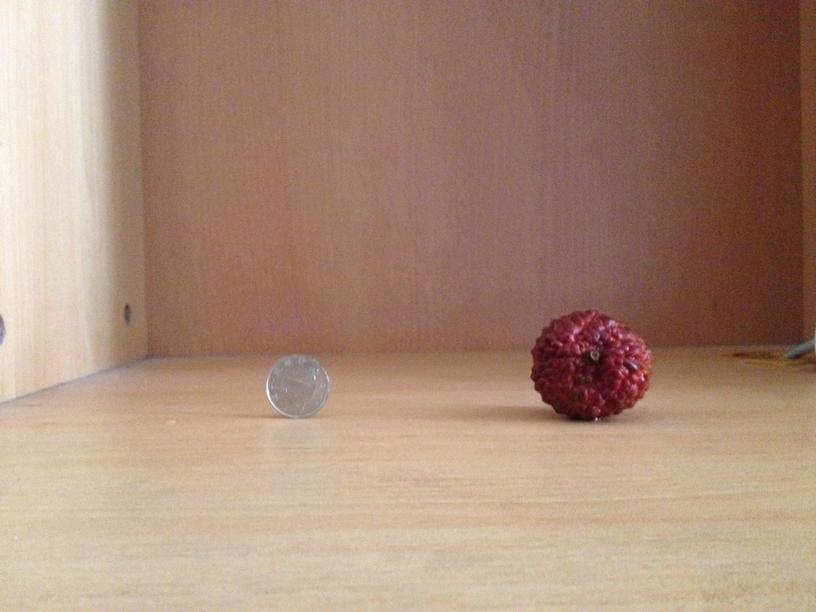coin: (268, 351, 330, 417)
litchi: (528, 312, 651, 418)
